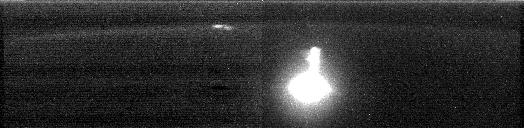positive: (301, 44, 326, 72)
